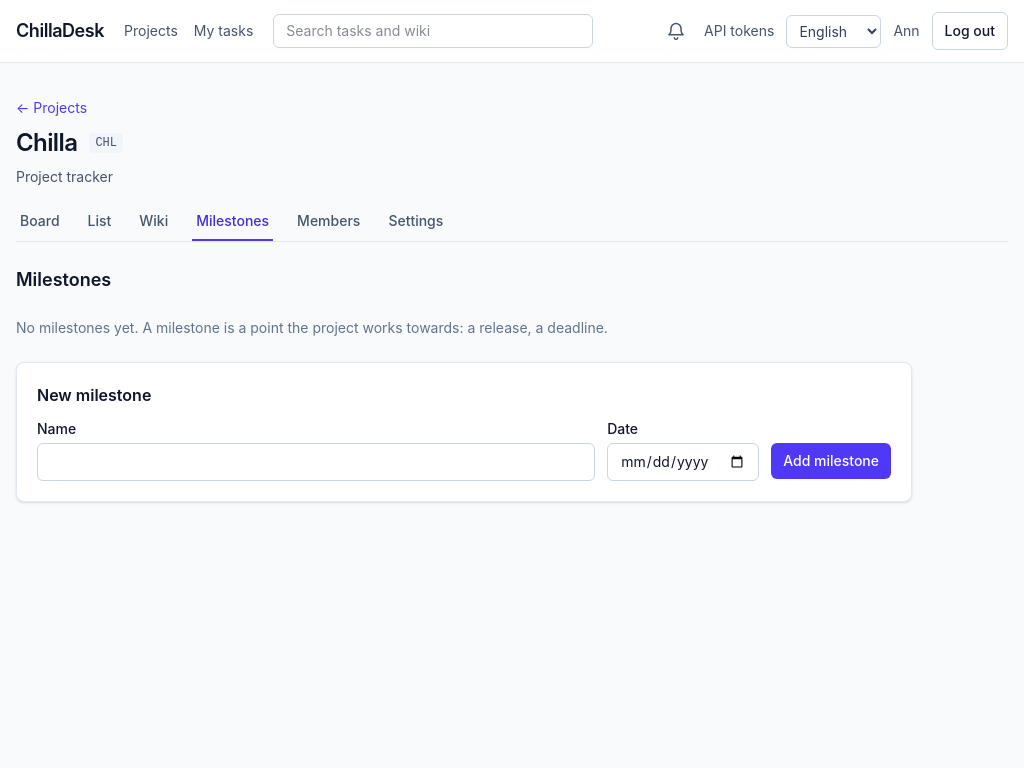
Test: the milestones page › creates a milestone with a name and a date
The width and height of the screenshot is (1024, 768).
Check: the text "No milestones yet" is shown, box [16,319,608,336]
Type "Version 1" into the field labelled "Name".
click(316, 462); type("Version 1")  # box [37,443,595,481]
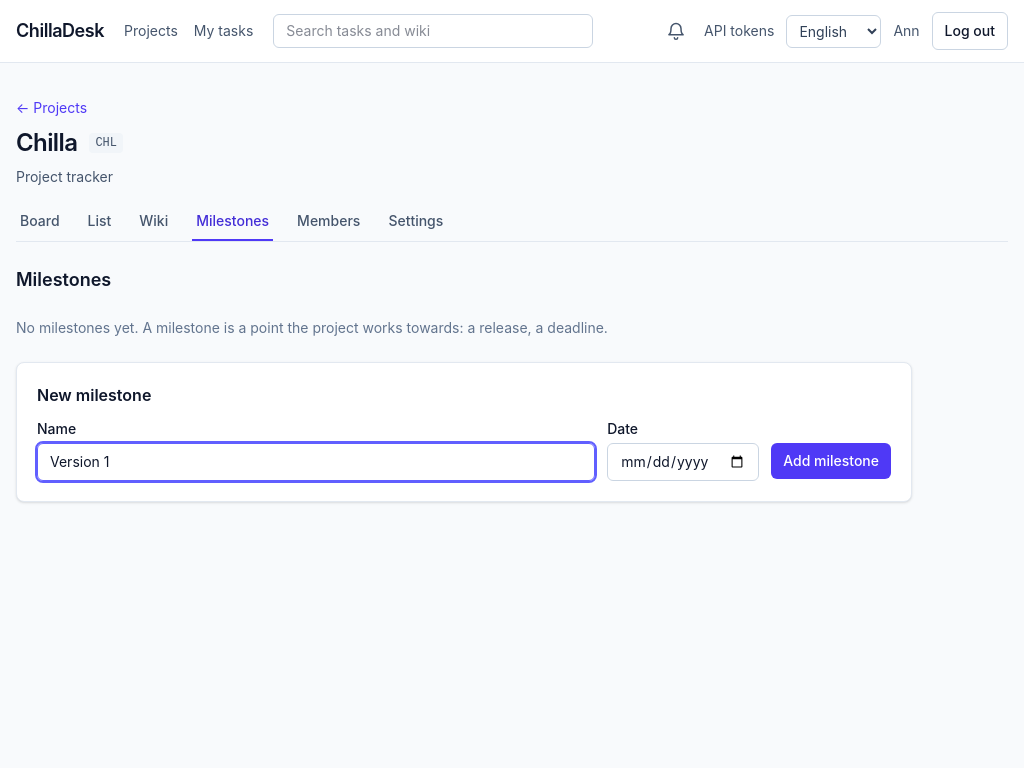
Type "2030-06-01" into the date field labelled "Date".
click(683, 462); type("2030-06-01")  # box [607,443,759,481]
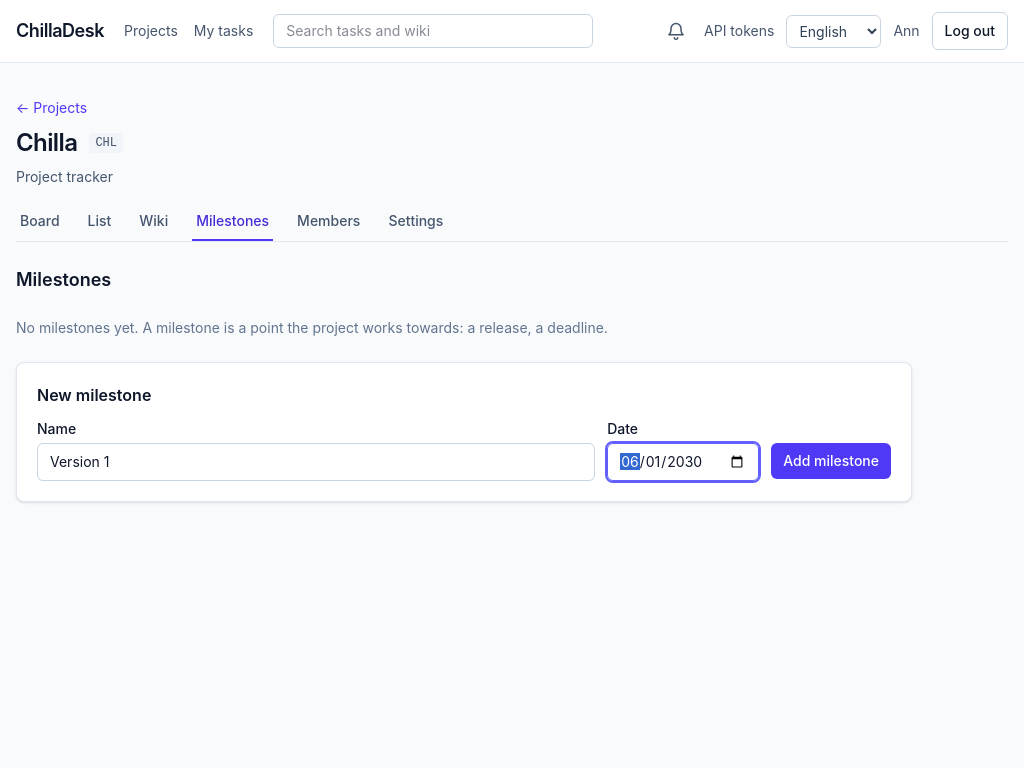
Click the button "Add milestone".
click(831, 461)  # box [771,443,891,479]
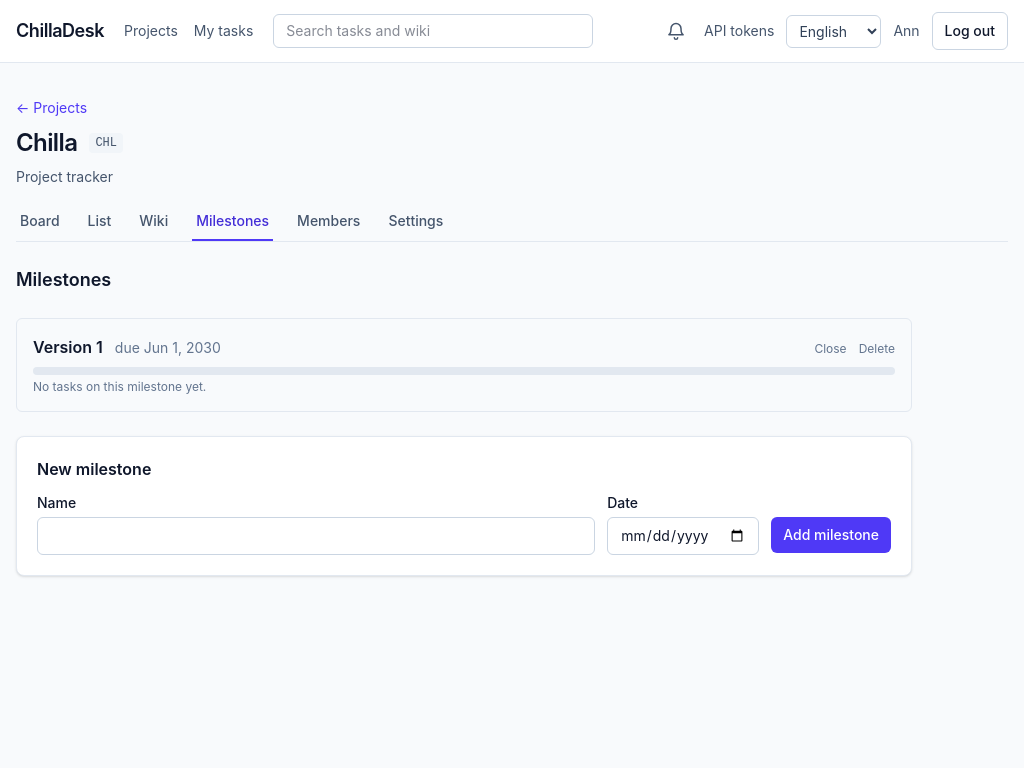
Check: the field labelled "Name" is empty, box [37,517,595,555]
Check: the link "Version 1" is shown, box [33,337,103,357]
